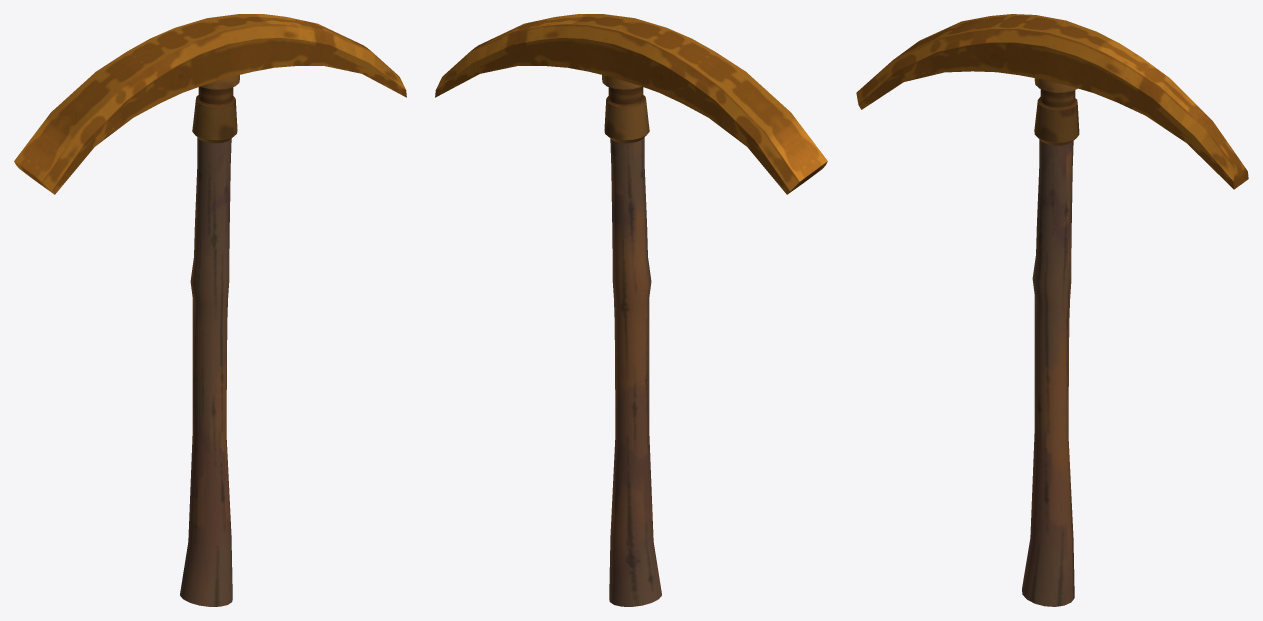
File: Pickaxe_Bronze.gltf
The picture shows the model from 3 angles, left to right: view 1: azimuth 30°, elevation 25°; view 2: azimuth 150°, elevation 25°; view 3: azimuth 330°, elevation 25°; orthographic projection.
Visible parts, largest first — view 1: Pickaxe_Bronze; view 2: Pickaxe_Bronze; view 3: Pickaxe_Bronze.
Part boxes in pixels (left/top/right/bottom): Pickaxe_Bronze: left=14, top=14, right=406, bottom=606; Pickaxe_Bronze: left=435, top=14, right=827, bottom=606; Pickaxe_Bronze: left=856, top=14, right=1248, bottom=606.
Bounding box in the file's own units: 0.8129 × 1.2 × 0.1357.
1 material, 1 textured.
